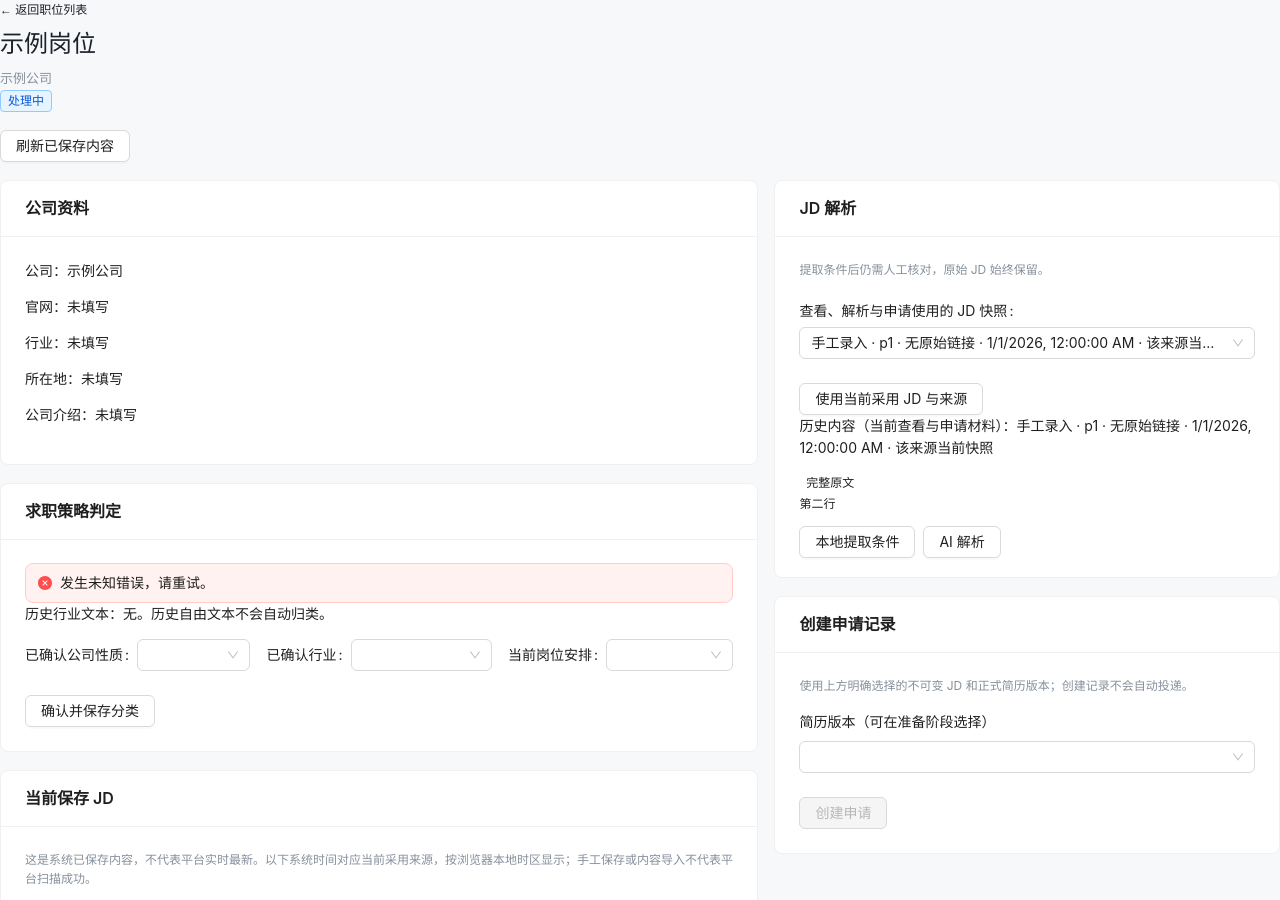
Test case: 当前保存 JD › 历史选择无写入，刷新变化提示并保留选择
The image size is (1280, 900).
Click the button with test id "refresh-job".
click(65, 146)  # box x1=0 y1=130 x2=130 y2=162
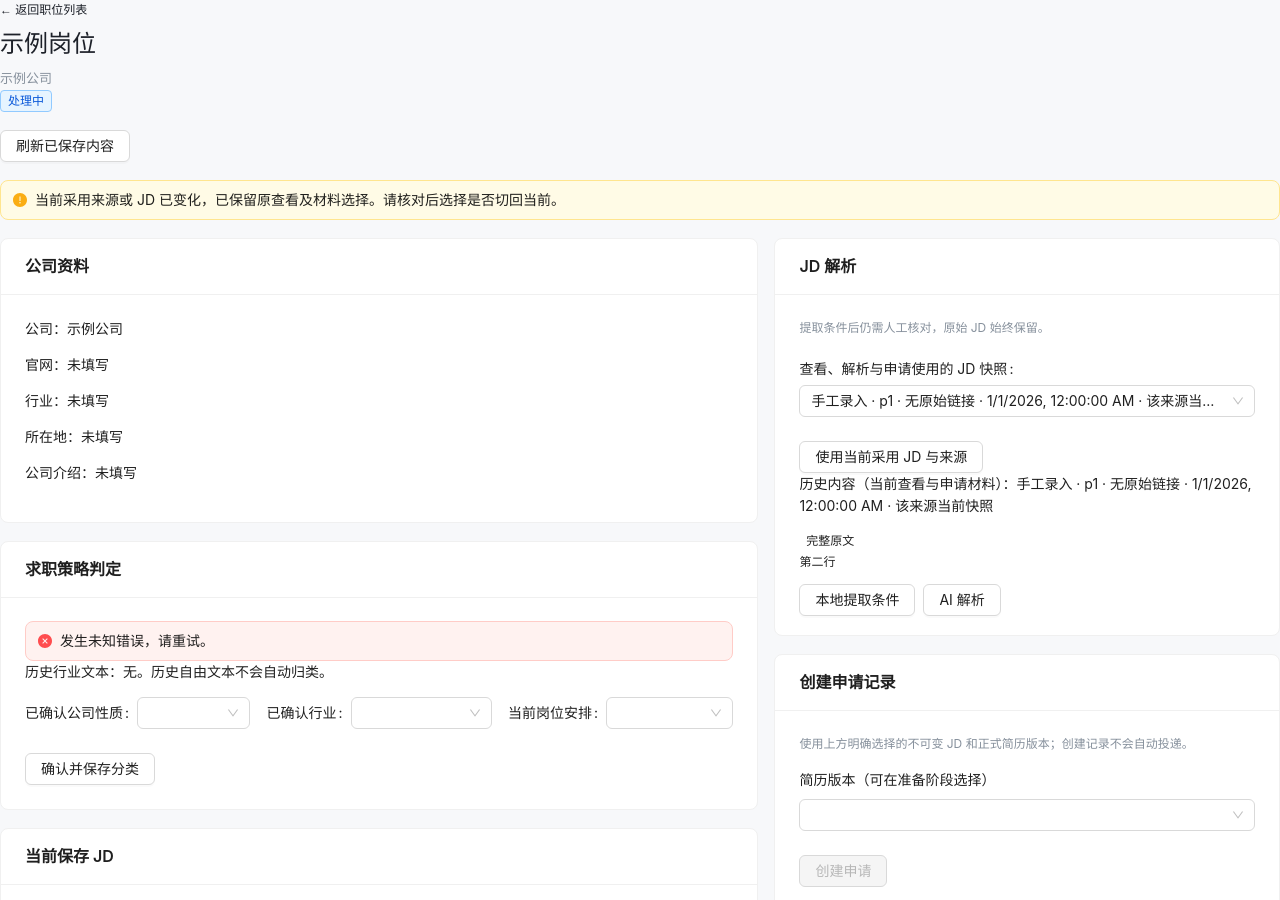
Expected: the element with test id "selected-jd" shows "历史内容", x1=799 y1=475 x2=1252 y2=514
Expected: the message "当前采用来源或 JD 已变化，已保留原查看及材料选择。请核对后选择是否切回当前。" is shown, x1=0 y1=180 x2=1279 y2=220
